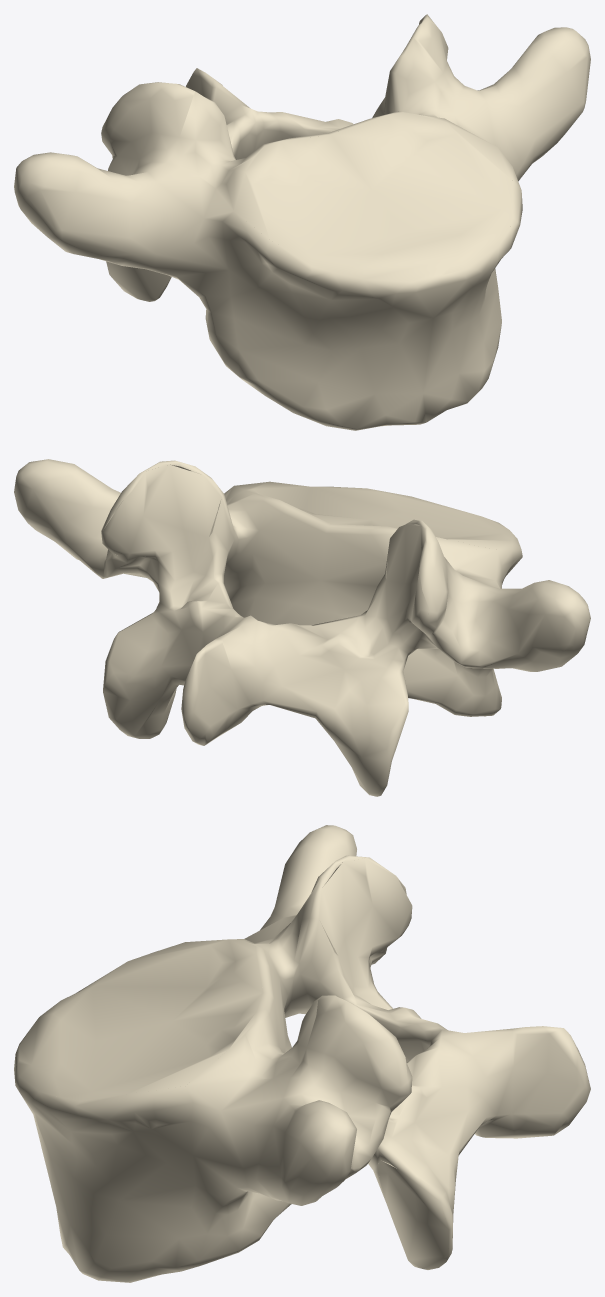
Rendered from esqueleto-vertebra-l5.glb.
3 renders of one model, top to bottom at view 1: azimuth 30°, elevation 25°; view 2: azimuth 150°, elevation 25°; view 3: azimuth 270°, elevation 25°, orthographic. The views are drawn at different scales.
Visible parts, largest first — view 1: Vertebra L5; view 2: Vertebra L5; view 3: Vertebra L5.
Boxes of the visible parts, <box> form: Vertebra L5: <box>14,14,590,430</box>; Vertebra L5: <box>14,459,590,796</box>; Vertebra L5: <box>14,825,590,1282</box>.
Size of the model in its own units: 0.1058 by 0.0504 by 0.0827.
